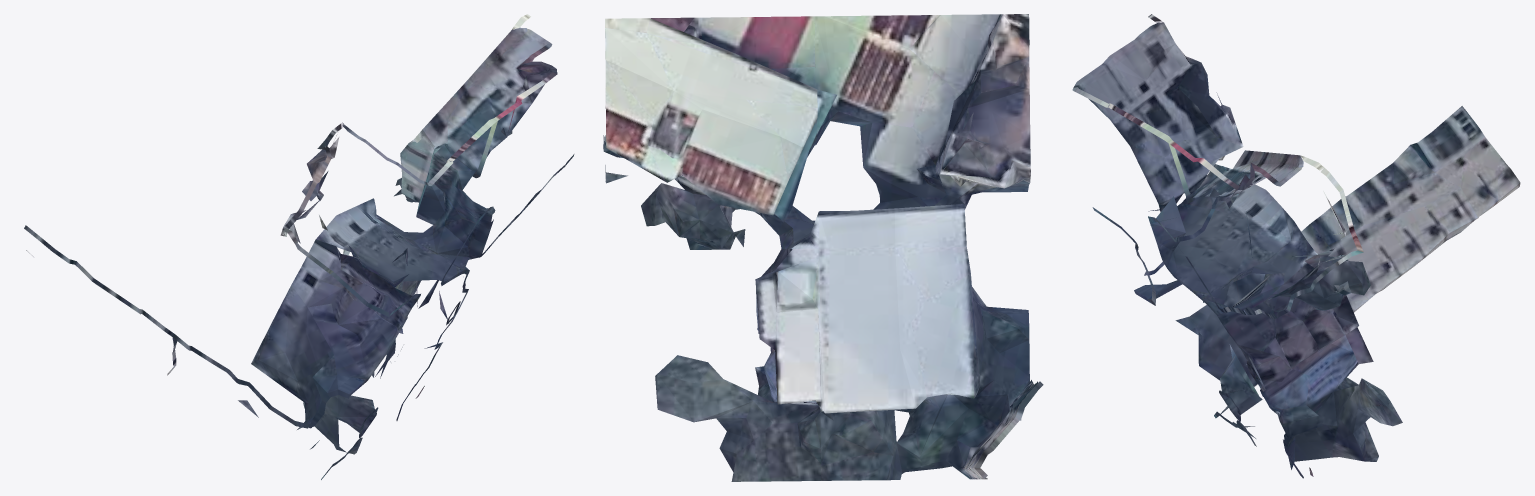
The picture shows the model from 3 angles, left to right: view 1: azimuth 30°, elevation 25°; view 2: azimuth 150°, elevation 25°; view 3: azimuth 270°, elevation 25°; orthographic projection. The views are drawn at different scales.
Size of the model in its own units: 51.49 by 40.35 by 41.32.
Materials: 2 (2 with a texture image).
